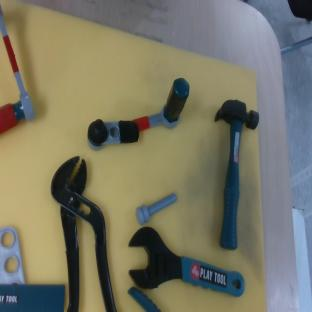non_pass: (81, 75, 202, 164)
pass: (0, 5, 35, 133)
